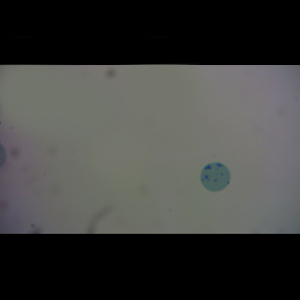aggregate reticulocyte: (201, 162, 231, 192)
